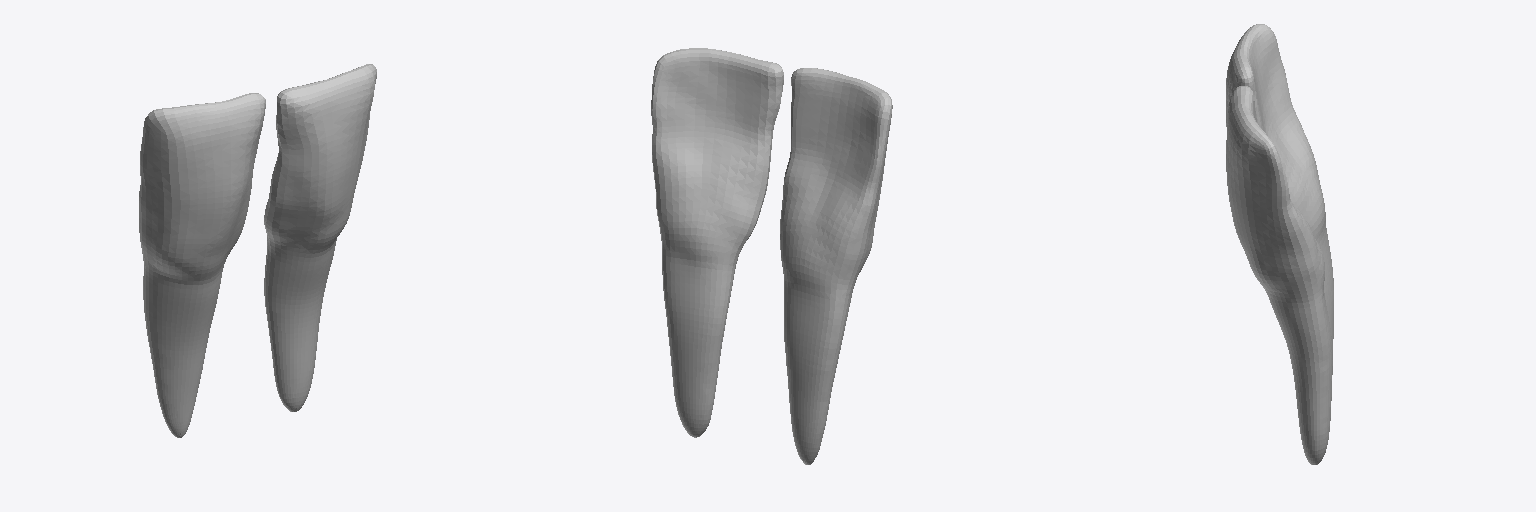
File: Lower_incisors01.obj
3 views of the same model, side by side, from view 1: azimuth 30°, elevation 25°; view 2: azimuth 150°, elevation 25°; view 3: azimuth 270°, elevation 25° (orthographic).
Parts seen in each view (by area): view 1: ZBrush_defualt_group; view 2: ZBrush_defualt_group; view 3: ZBrush_defualt_group.
Boxes of the visible parts, <box> form: ZBrush_defualt_group: <box>139,64,376,437</box>; ZBrush_defualt_group: <box>651,48,892,464</box>; ZBrush_defualt_group: <box>1226,24,1333,464</box>.
Size of the model in its own units: 0.1839 by 0.2748 by 0.0744.